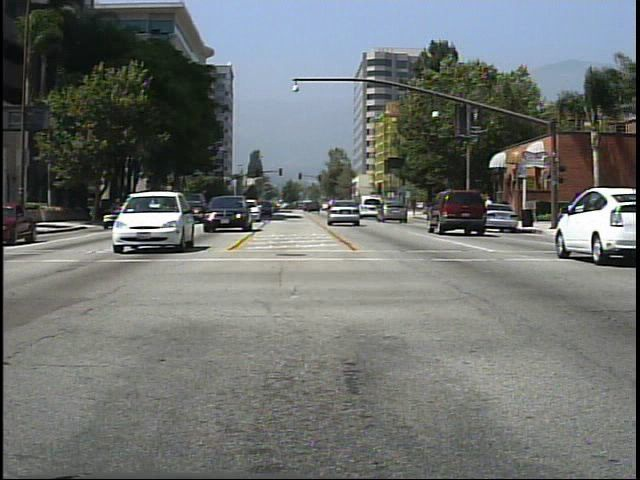person: (482, 194, 502, 228), (441, 193, 459, 227)
